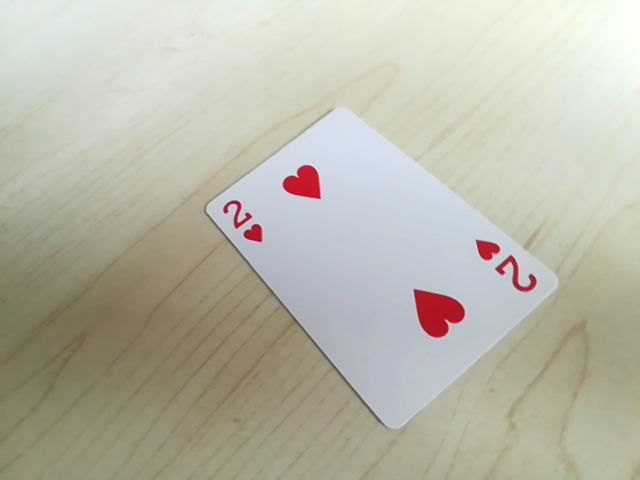hx 2: (474, 233, 542, 302), (212, 192, 263, 249)
